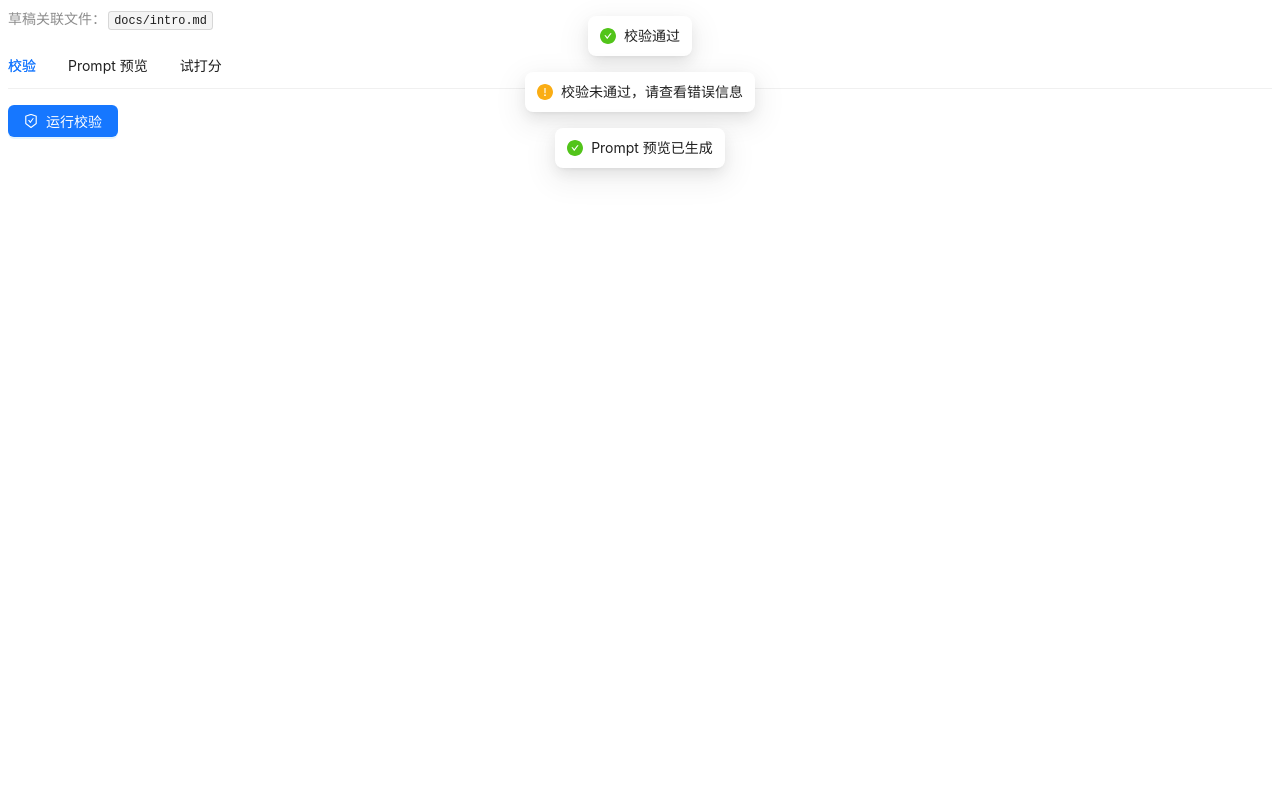
Scenario: KnowledgePreviewPanel › shows LLM cost warning on trial score tab
The image size is (1280, 800).
Click the tab "试打分": click(201, 66) [180, 55, 222, 77]
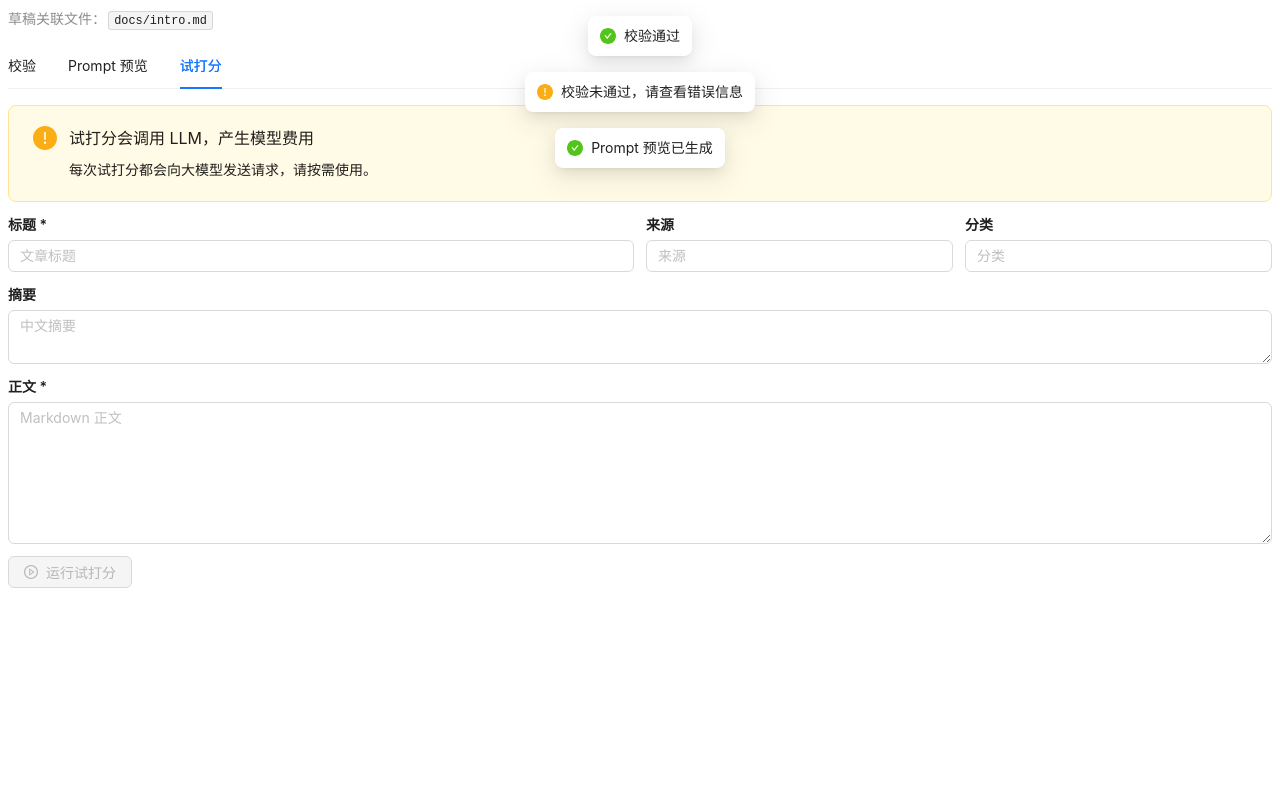
Now the text "试打分会调用 LLM，产生模型费用" is shown, box [69, 128, 314, 148]
